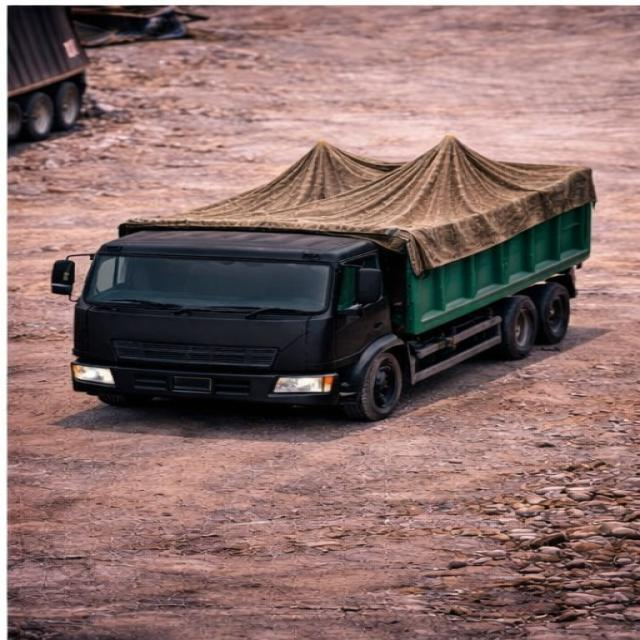trailer: (122, 137, 594, 234)
truck: (48, 124, 623, 414)
